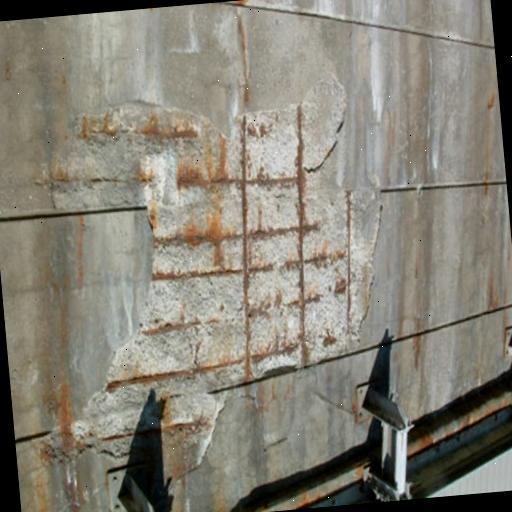spalling: (70, 81, 378, 476)
